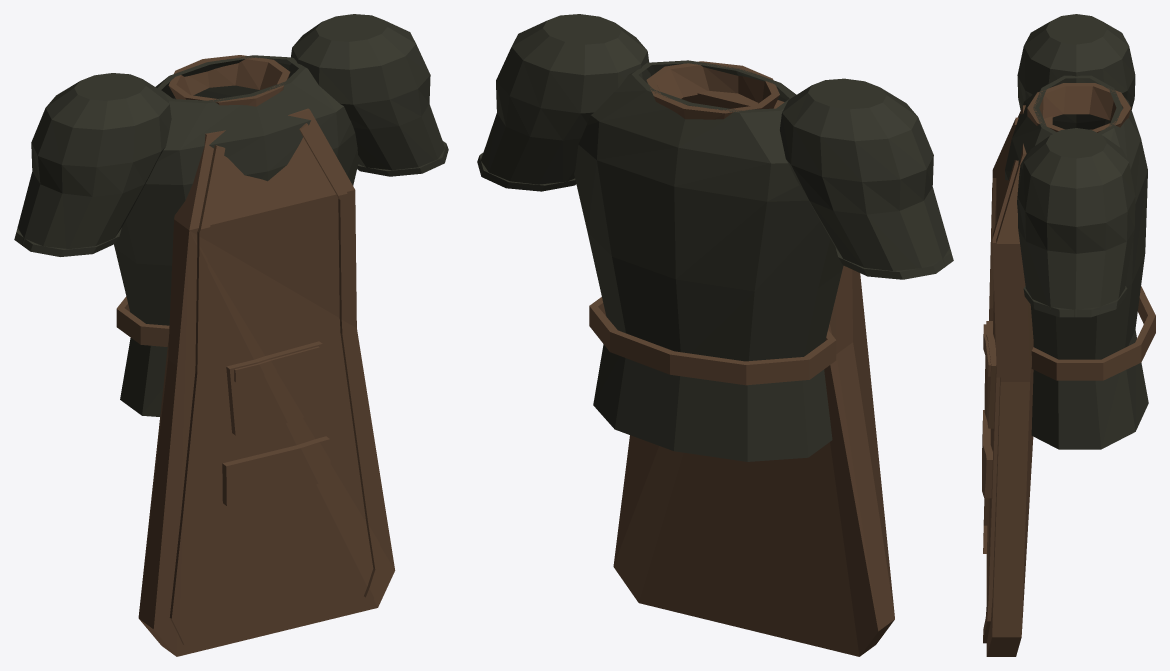
File: leather_apron-male-thickHide.glb
3 renders of one model, left to right at view 1: azimuth 30°, elevation 25°; view 2: azimuth 150°, elevation 25°; view 3: azimuth 270°, elevation 25°, orthographic. The views are drawn at different scales.
Visible parts, largest first — view 1: Leather apron bib and skirt, Apron cloth undershirt, workshirt upper sleeve -1, workshirt upper sleeve 1, Apron stitched border -1, Apron working pocket, Apron stitched border 1, Heavy hide binding Leather apron bib and skirt, Apron continuous neck loop, Apron waist tie, Pocket turned lip, Sleeve cuff binding -1 (+1 smaller); view 2: Apron cloth undershirt, Leather apron bib and skirt, workshirt upper sleeve -1, workshirt upper sleeve 1, Apron waist tie, Apron continuous neck loop, Sleeve cuff binding -1, Sleeve cuff binding 1; view 3: workshirt upper sleeve 1, Apron cloth undershirt, Leather apron bib and skirt, workshirt upper sleeve -1, Apron waist tie, Apron continuous neck loop, Apron stitched border 1, Apron stitched border -1, Apron working pocket, Sleeve cuff binding 1, Heavy hide binding Leather apron bib and skirt.
Boxes of the visible parts, x1,y1,x2,y2 form: Leather apron bib and skirt: (138, 108, 395, 656); Apron cloth undershirt: (114, 55, 358, 416); workshirt upper sleeve -1: (17, 73, 171, 251); workshirt upper sleeve 1: (288, 14, 445, 170); Apron stitched border -1: (169, 145, 225, 645); Apron working pocket: (226, 341, 322, 435); Apron stitched border 1: (299, 123, 383, 599); Heavy hide binding Leather apron bib and skirt: (222, 436, 331, 505); Apron continuous neck loop: (168, 55, 290, 106); Apron waist tie: (116, 296, 169, 346); Pocket turned lip: (234, 346, 319, 382); Sleeve cuff binding -1: (14, 228, 121, 256); Apron cloth undershirt: (574, 60, 843, 461); Leather apron bib and skirt: (613, 91, 894, 656); workshirt upper sleeve -1: (780, 78, 949, 272); workshirt upper sleeve 1: (481, 14, 650, 185); Apron waist tie: (589, 297, 836, 385); Apron continuous neck loop: (646, 61, 779, 119); Sleeve cuff binding -1: (836, 248, 953, 279); Sleeve cuff binding 1: (477, 153, 576, 191); workshirt upper sleeve 1: (1017, 128, 1135, 317); Apron cloth undershirt: (1005, 75, 1148, 449); Leather apron bib and skirt: (986, 105, 1052, 656); workshirt upper sleeve -1: (1017, 14, 1135, 129); Apron waist tie: (1031, 286, 1155, 380); Apron continuous neck loop: (1027, 83, 1130, 132); Apron stitched border 1: (983, 160, 1018, 643); Apron stitched border -1: (983, 117, 1018, 553); Apron working pocket: (984, 321, 996, 428); Sleeve cuff binding 1: (1023, 286, 1127, 317); Heavy hide binding Leather apron bib and skirt: (982, 410, 992, 498).
Bounding box in the file's own units: 3.33 × 4.11 × 1.24.
